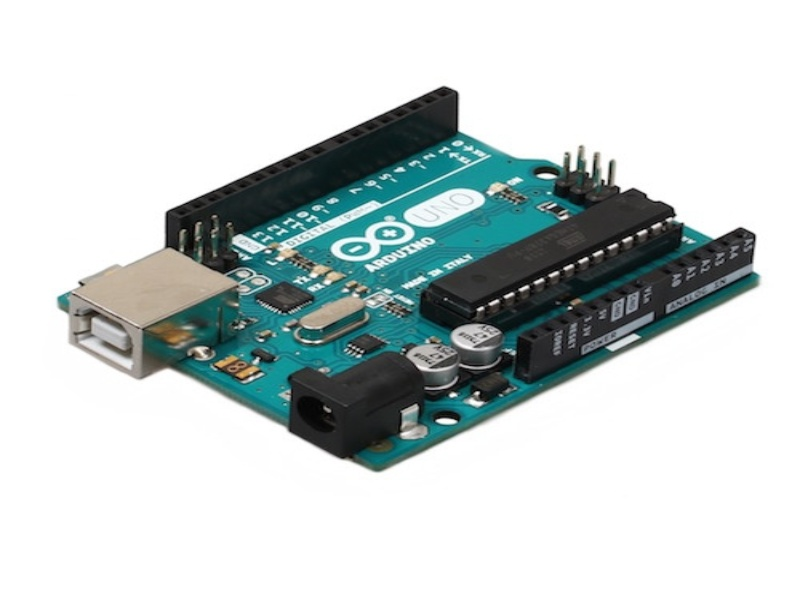uno: (44, 25, 762, 456)
